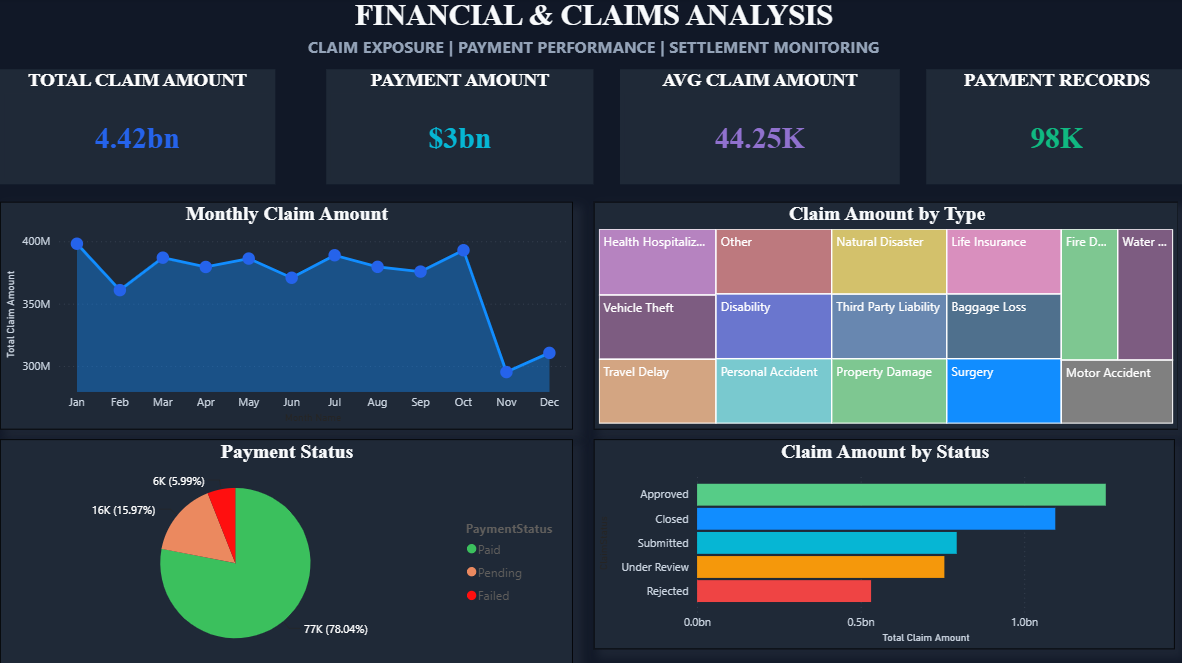

The dashboard page shown, as its layout file describes it:
{"tool":"powerbi","page":{"name":"Financial & Claims Analysis","canvas":[1280,720],"ordinal":2},"visuals":[{"type":"areaChart","title":"Monthly Claim Amount","fields":{"Category":["DateTable.Month Name"],"Y":["Claims.Total Claim Amount"]},"box":[0,219.7,617.2,245.3],"z":0},{"type":"textbox","title":"FINANCIAL & CLAIMS ANALYSIS","box":[0,0,1280.3,66],"z":1000},{"type":"cardVisual","title":"TOTAL CLAIM AMOUNT","fields":{"Data":["Claims.Total Claim Amount"]},"box":[0,76.8,296.5,124],"z":2000},{"type":"cardVisual","title":"PAYMENT RECORDS","fields":{"Data":["Claim_Types.Payment Records"]},"box":[998.6,76.8,281.7,124],"z":3000},{"type":"cardVisual","title":"AVG CLAIM AMOUNT","fields":{"Data":["Claims.Average Claim Amount"]},"box":[668.4,76.8,301.9,124],"z":4000},{"type":"cardVisual","title":"PAYMENT AMOUNT","fields":{"Data":["Sum(Payments.PaymentAmountINR)"]},"box":[351.7,76.8,288.4,124],"z":5000},{"type":"treemap","title":"Claim Amount by Type","fields":{"Group":["Claim_Types.ClaimTypeName"],"Values":["Claims.Total Claim Amount"]},"box":[640.1,219.7,630.7,245.3],"z":6000},{"type":"pieChart","title":"Payment Status","fields":{"Category":["Payments.PaymentStatus"],"Y":["Claim_Types.Payment Records"]},"box":[0,475.7,617.2,243.9],"z":7000},{"type":"clusteredBarChart","title":"Claim Amount by Status","fields":{"Category":["Claims.ClaimStatus"],"Y":["Claims.Total Claim Amount"]},"box":[640.1,475.7,626.7,226.4],"z":8000}]}

Visuals, with their boxes in screenshot pixels (x1, y1, x2, y2), scaled from the page's 1280x720 canvas onto the 1182x663 screenshot:
"Monthly Claim Amount" areaChart: x1=0 y1=202 x2=570 y2=428
"FINANCIAL & CLAIMS ANALYSIS" textbox: x1=0 y1=0 x2=1181 y2=61
"TOTAL CLAIM AMOUNT" cardVisual: x1=0 y1=71 x2=274 y2=185
"PAYMENT RECORDS" cardVisual: x1=922 y1=71 x2=1181 y2=185
"AVG CLAIM AMOUNT" cardVisual: x1=617 y1=71 x2=896 y2=185
"PAYMENT AMOUNT" cardVisual: x1=325 y1=71 x2=591 y2=185
"Claim Amount by Type" treemap: x1=591 y1=202 x2=1174 y2=428
"Payment Status" pieChart: x1=0 y1=438 x2=570 y2=662
"Claim Amount by Status" clusteredBarChart: x1=591 y1=438 x2=1170 y2=647
